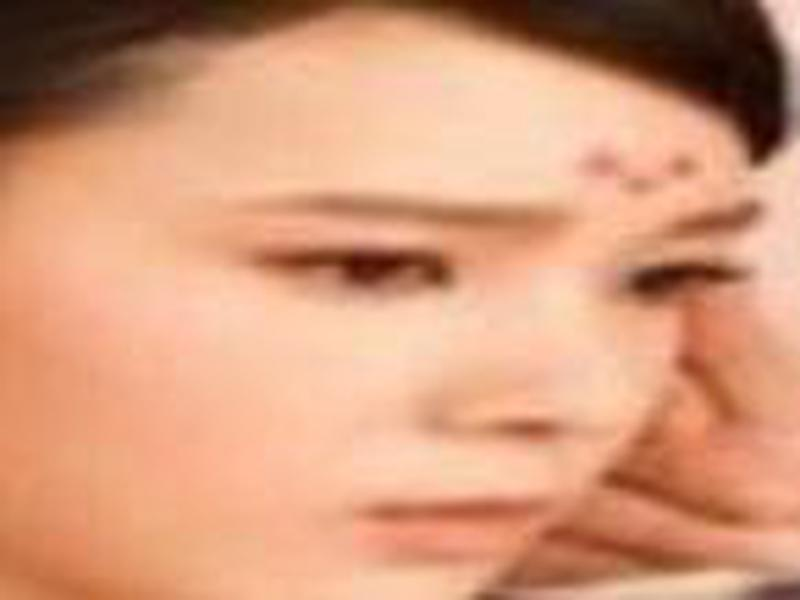without_mask: (4, 18, 778, 600)
